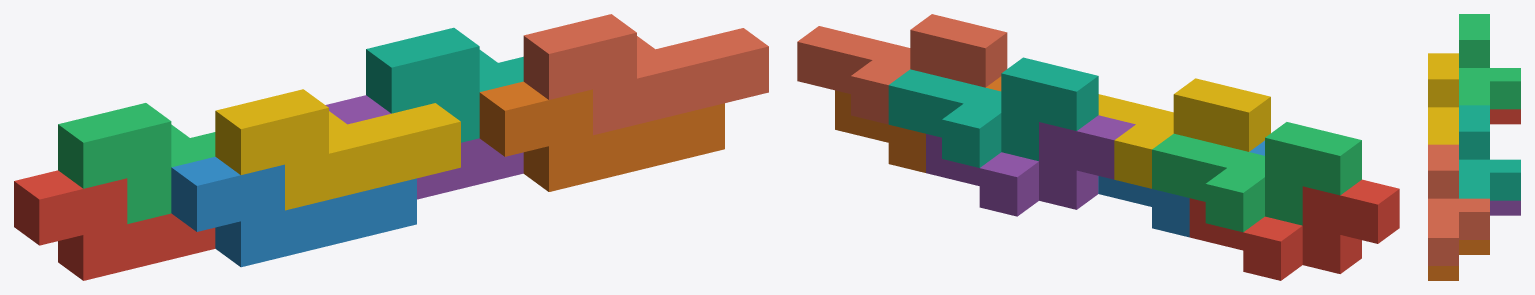
File: tiling.obj
3 views of the same model, side by side, from view 1: azimuth 30°, elevation 25°; view 2: azimuth 150°, elevation 25°; view 3: azimuth 270°, elevation 25° (orthographic). The views are drawn at different scales.
Visible parts, largest first — view 1: copy_1_domain_4, copy_1_domain_8, copy_1_domain_2, copy_1_domain_6, copy_1_domain_1, copy_1_domain_3, copy_1_domain_7, copy_1_domain_5; view 2: copy_1_domain_7, copy_1_domain_3, copy_1_domain_8, copy_1_domain_1, copy_1_domain_5, copy_1_domain_4, copy_1_domain_6, copy_1_domain_2; view 3: copy_1_domain_8, copy_1_domain_7, copy_1_domain_3, copy_1_domain_4, copy_1_domain_6, copy_1_domain_1, copy_1_domain_5.
Boxes of the visible parts, x1=… form: copy_1_domain_4: x1=215, y1=89, x2=460, y2=210; copy_1_domain_8: x1=523, y1=14, x2=768, y2=135; copy_1_domain_2: x1=171, y1=156, x2=416, y2=267; copy_1_domain_6: x1=479, y1=81, x2=724, y2=191; copy_1_domain_1: x1=14, y1=170, x2=215, y2=280; copy_1_domain_3: x1=58, y1=103, x2=215, y2=223; copy_1_domain_7: x1=366, y1=27, x2=523, y2=142; copy_1_domain_5: x1=325, y1=95, x2=523, y2=199; copy_1_domain_7: x1=888, y1=57, x2=1098, y2=167; copy_1_domain_3: x1=1152, y1=122, x2=1361, y2=232; copy_1_domain_8: x1=797, y1=14, x2=1007, y2=124; copy_1_domain_1: x1=1189, y1=179, x2=1399, y2=280; copy_1_domain_5: x1=926, y1=115, x2=1135, y2=216; copy_1_domain_4: x1=1098, y1=78, x2=1270, y2=188; copy_1_domain_6: x1=835, y1=76, x2=1001, y2=172; copy_1_domain_2: x1=1098, y1=140, x2=1264, y2=237; copy_1_domain_8: x1=1428, y1=144, x2=1489, y2=265; copy_1_domain_7: x1=1459, y1=105, x2=1520, y2=200; copy_1_domain_3: x1=1459, y1=14, x2=1520, y2=109; copy_1_domain_4: x1=1428, y1=53, x2=1458, y2=144; copy_1_domain_6: x1=1428, y1=240, x2=1489, y2=280; copy_1_domain_1: x1=1490, y1=109, x2=1520, y2=124; copy_1_domain_5: x1=1490, y1=200, x2=1520, y2=215.
Size of the model in its own units: 16 by 3 by 3.
